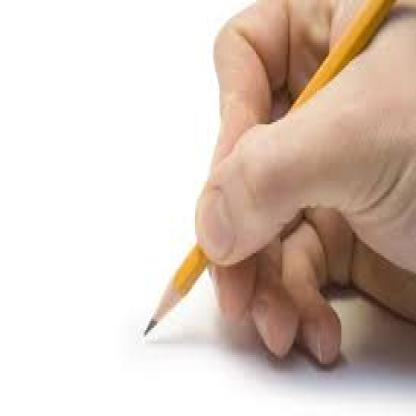pencil: (135, 2, 405, 346)
